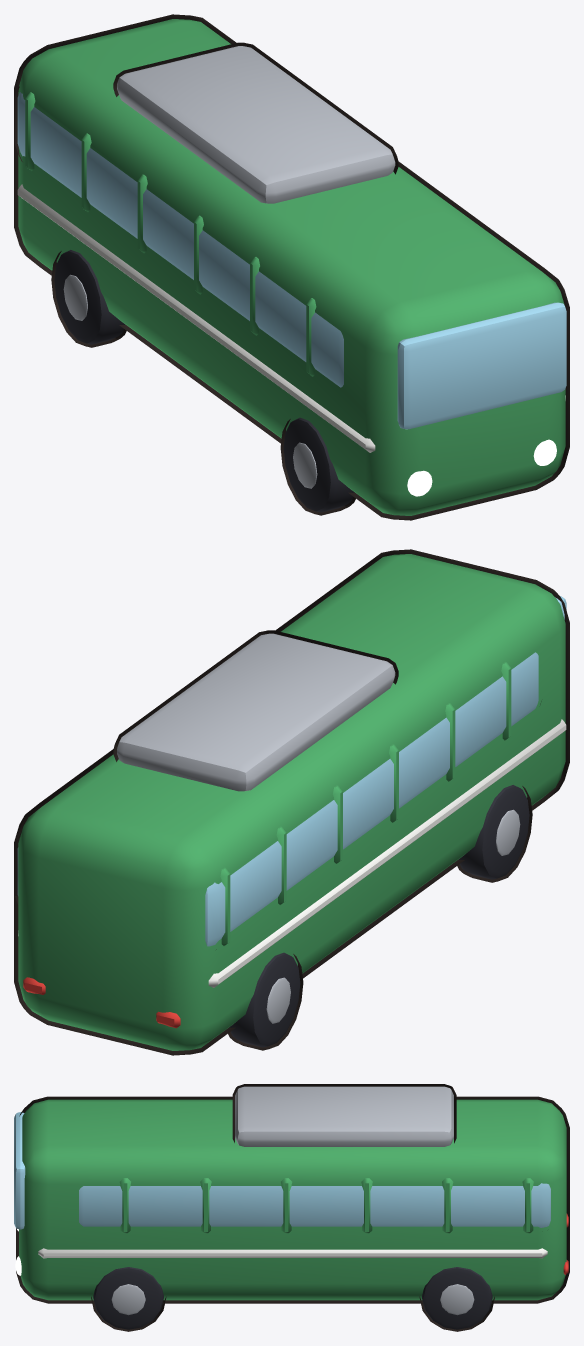
The model's file is Bus_City.fbx.
The picture shows the model from 3 angles, top to bottom: view 1: azimuth 30°, elevation 25°; view 2: azimuth 150°, elevation 25°; view 3: azimuth 270°, elevation 25°; orthographic projection. The views are drawn at different scales.
Visible parts, largest first — view 1: VH_Bus_City_AwningGreen, VH_Bus_City_Window, VH_Bus_City_MetalLight, VH_Bus_City_Outline, VH_Bus_City_Black, VH_Bus_City_White, VH_Bus_City_LampWarm; view 2: VH_Bus_City_AwningGreen, VH_Bus_City_MetalLight, VH_Bus_City_Window, VH_Bus_City_Outline, VH_Bus_City_Black, VH_Bus_City_White, VH_Bus_City_Red; view 3: VH_Bus_City_AwningGreen, VH_Bus_City_Window, VH_Bus_City_MetalLight, VH_Bus_City_Black, VH_Bus_City_Outline, VH_Bus_City_White.
Boxes of the visible parts, x1,y1,x2,y2 form: VH_Bus_City_AwningGreen: (18, 19, 565, 515); VH_Bus_City_Window: (17, 92, 566, 429); VH_Bus_City_MetalLight: (63, 46, 395, 488); VH_Bus_City_Outline: (14, 14, 569, 520); VH_Bus_City_Black: (54, 250, 354, 512); VH_Bus_City_White: (17, 184, 565, 452); VH_Bus_City_LampWarm: (407, 439, 556, 496); VH_Bus_City_AwningGreen: (18, 554, 565, 1050); VH_Bus_City_MetalLight: (117, 633, 520, 1023); VH_Bus_City_Window: (17, 596, 566, 946); VH_Bus_City_Outline: (14, 549, 569, 1055); VH_Bus_City_Black: (229, 785, 529, 1047); VH_Bus_City_White: (18, 719, 566, 987); VH_Bus_City_Red: (23, 977, 180, 1028); VH_Bus_City_AwningGreen: (19, 1099, 566, 1300); VH_Bus_City_Window: (14, 1112, 550, 1229); VH_Bus_City_MetalLight: (111, 1086, 474, 1315); VH_Bus_City_Black: (93, 1267, 492, 1329); VH_Bus_City_Outline: (16, 1084, 569, 1331); VH_Bus_City_White: (38, 1248, 547, 1258).
Size of the model in its own units: 2.67 by 3.32 by 8.63.
